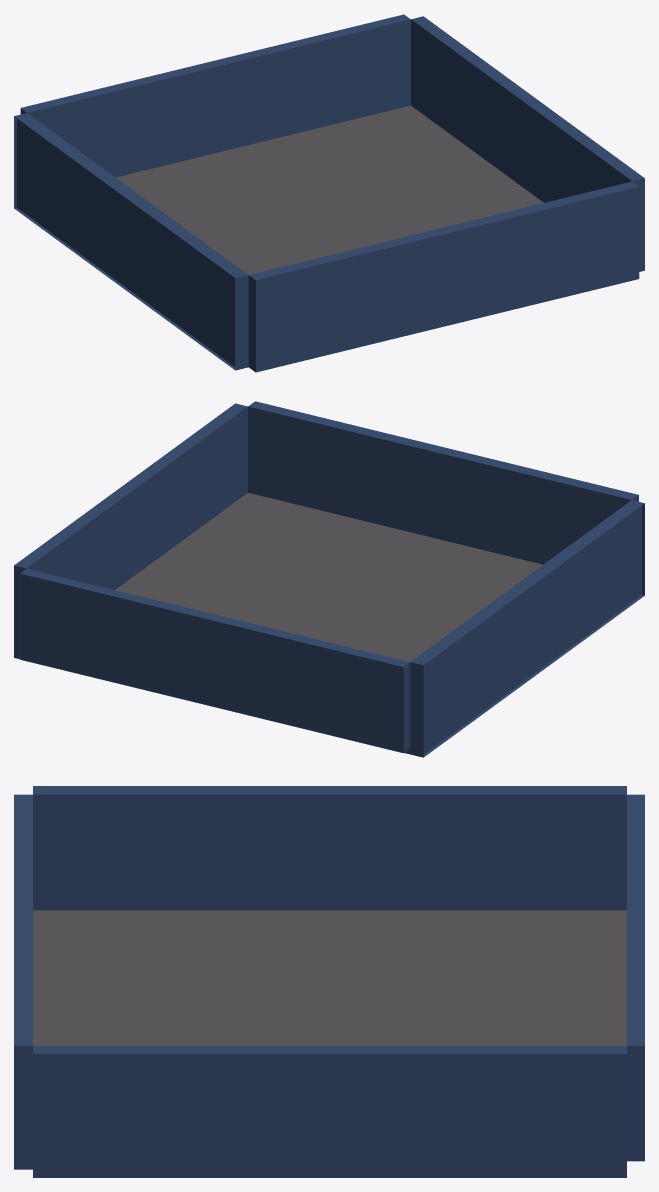
File: BulletContainerModel.fbx
3 views of the same model, one above another, from view 1: azimuth 30°, elevation 25°; view 2: azimuth 150°, elevation 25°; view 3: azimuth 270°, elevation 25° (orthographic). The views are drawn at different scales.
Parts seen in each view (by area): view 1: Cube; view 2: Cube; view 3: Cube.
Boxes of the visible parts, <box> form: Cube: <box>14,14,644,372</box>; Cube: <box>14,401,644,757</box>; Cube: <box>14,786,644,1177</box>.
Size of the model in its own units: 214 by 46 by 213.
